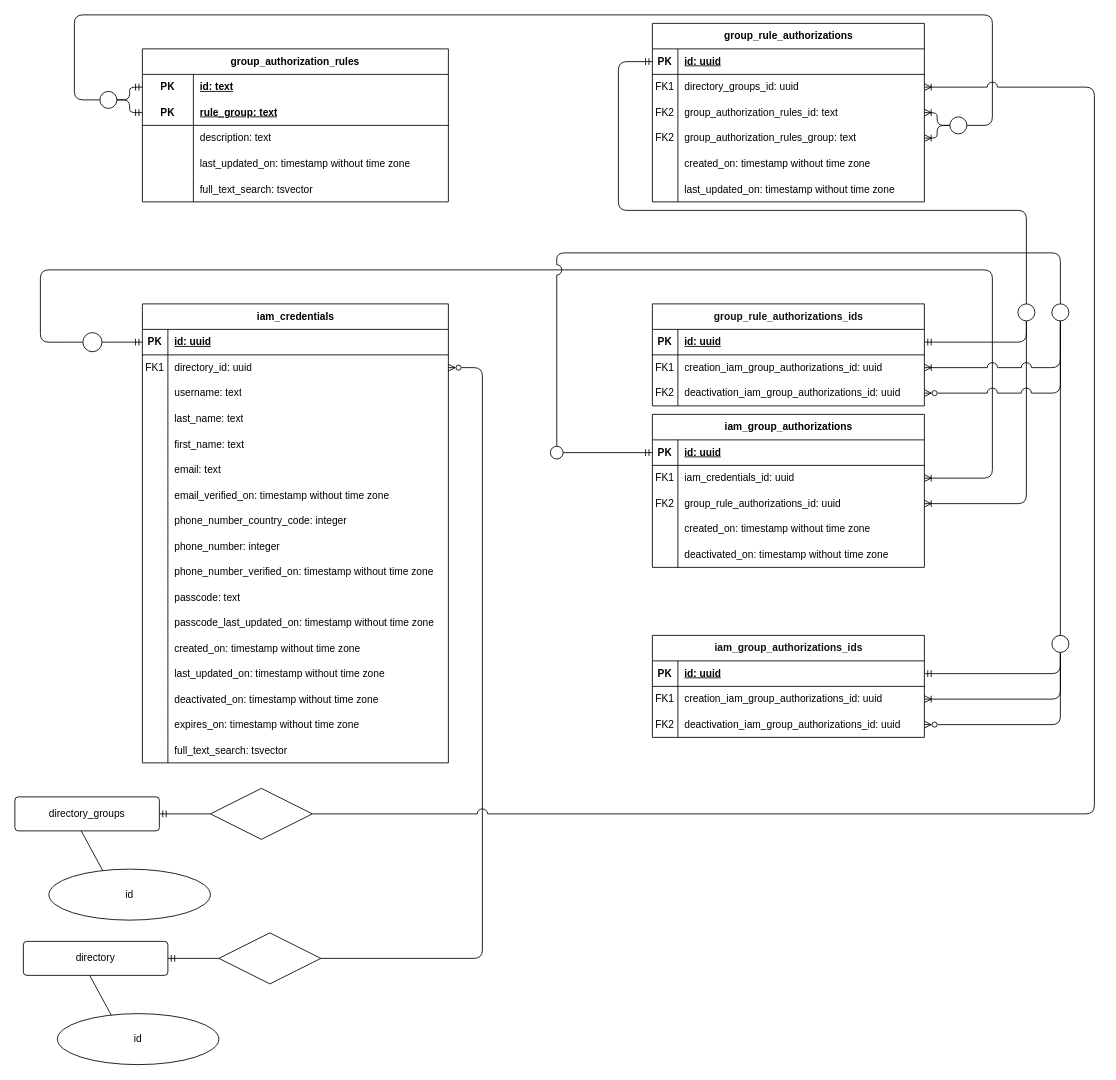
The diagram is 1116 pixels wide and 1080 high, and some of its shapes have lost their labels. Each missing label, with the centre of its shape:
iam_credentials_id: (x=92, y=342)
iam_group_authorizations_id: (x=556, y=452)
